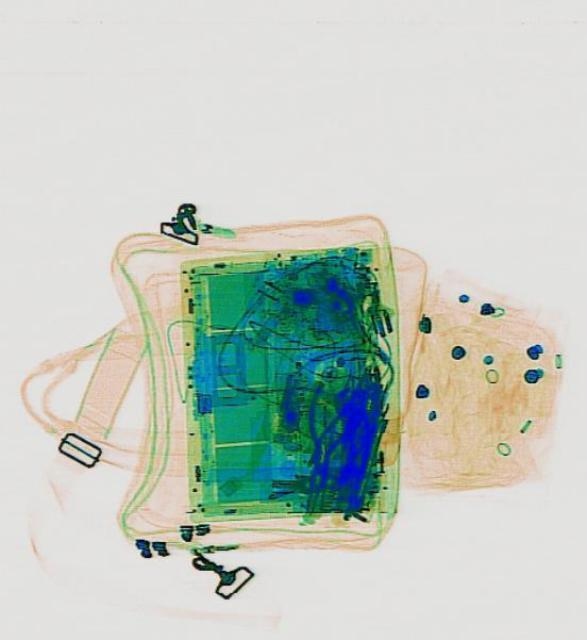Pliers: (293, 380, 358, 490), (293, 381, 348, 464)
